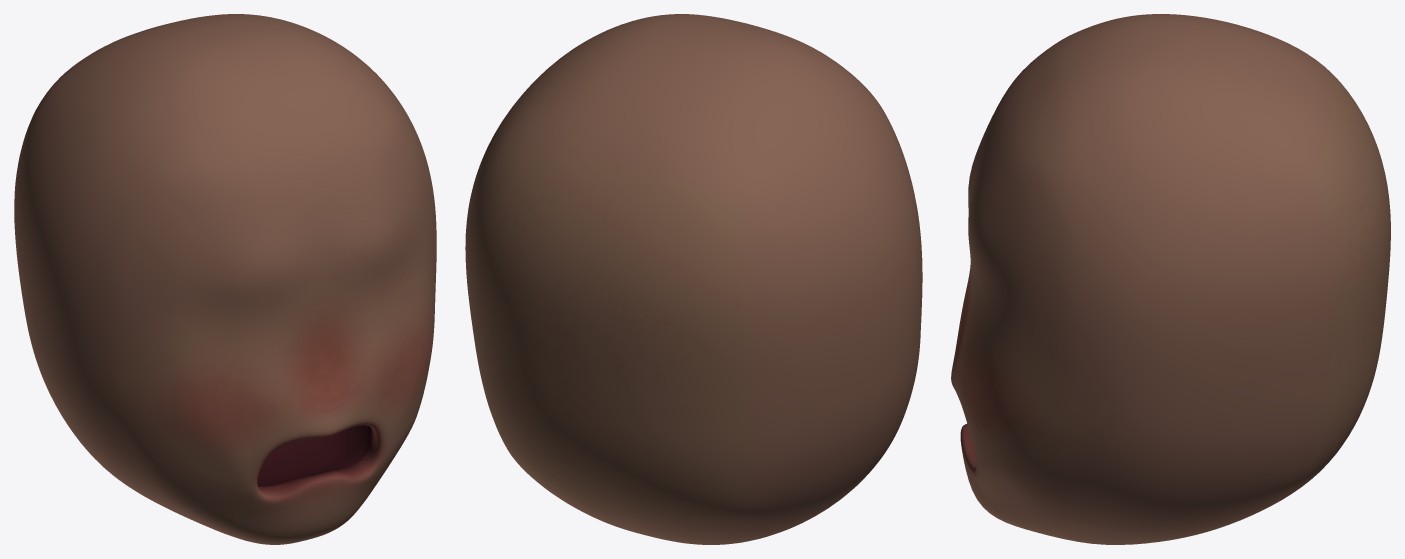
The model's file is head11.glb.
The picture shows the model from 3 angles, left to right: view 1: azimuth 30°, elevation 25°; view 2: azimuth 150°, elevation 25°; view 3: azimuth 270°, elevation 25°; orthographic projection. The views are drawn at different scales.
Visible parts, largest first — view 1: head.011; view 2: head.011; view 3: head.011.
Part boxes in pixels (x1,y1,x2,y2): head.011: (14, 14, 436, 544); head.011: (465, 14, 922, 544); head.011: (951, 14, 1390, 544).
Bounding box in the file's own units: 1.35 × 1.65 × 1.34.
1 material, 1 textured.
